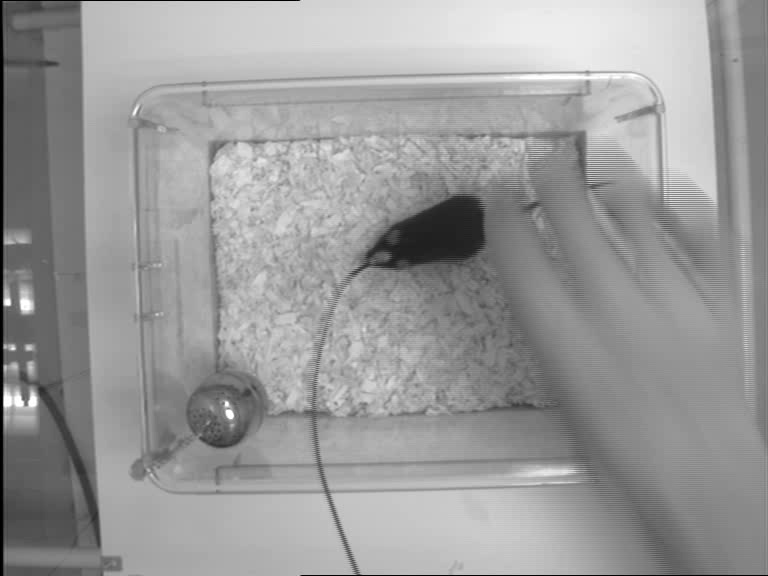mice: (363, 176, 624, 272)
